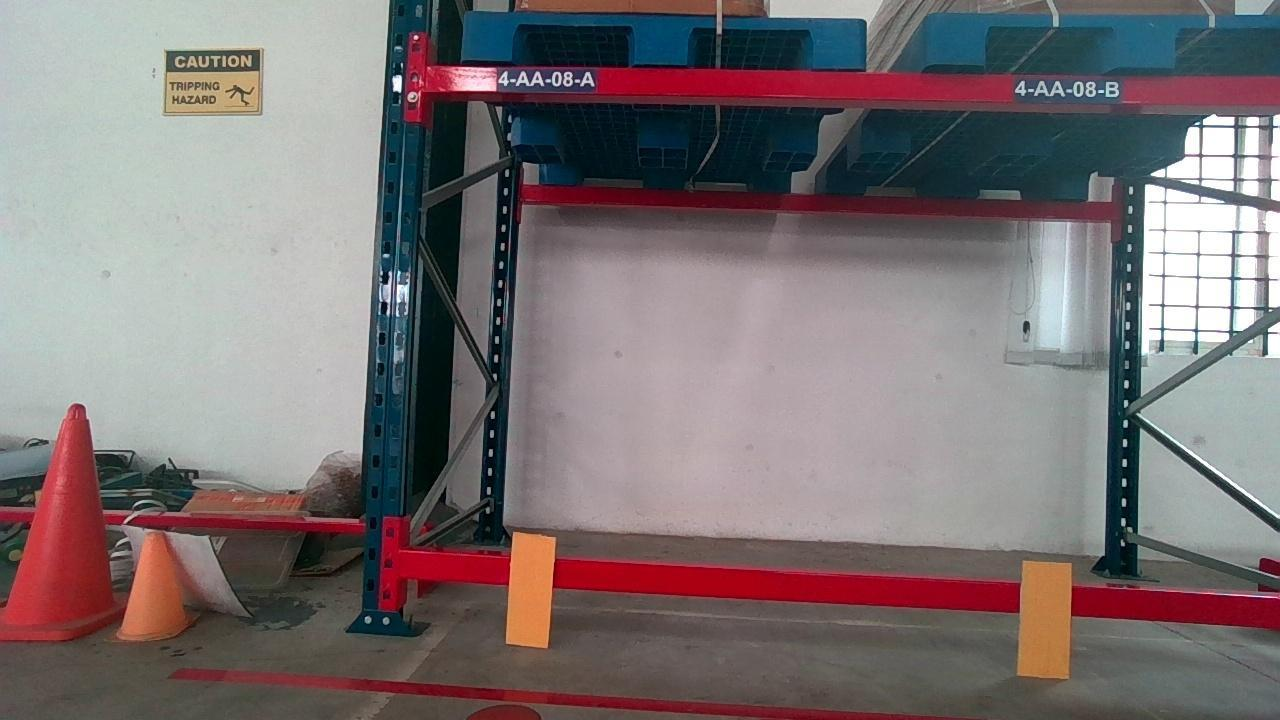h_rack: (402, 551, 1280, 626), (422, 64, 1280, 108)
orange_strip: (1018, 560, 1073, 677), (505, 532, 554, 645)
red_line: (169, 667, 971, 720)
small_pallet: (930, 10, 1280, 72), (463, 11, 858, 65)
